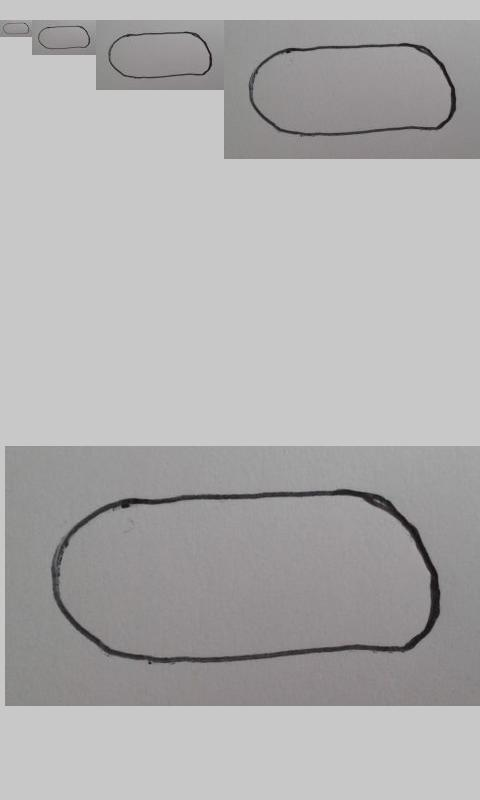chip: (51, 488, 442, 664), (248, 42, 458, 138), (108, 31, 213, 80), (37, 25, 91, 49), (2, 22, 30, 35)
